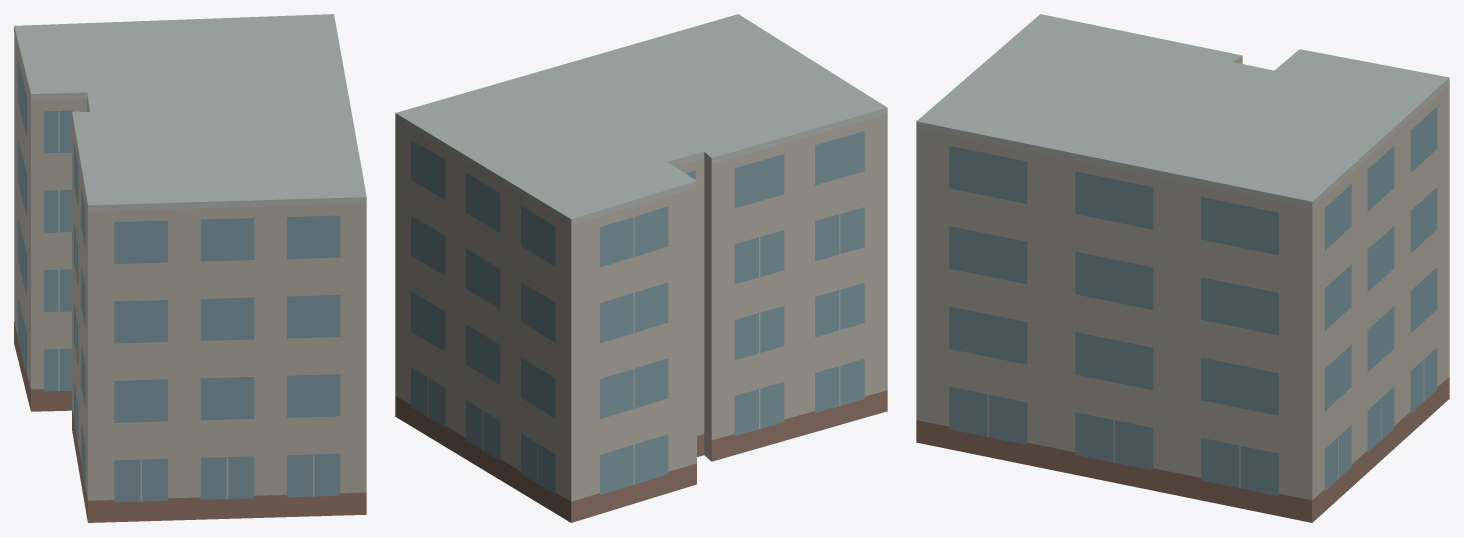
Rendered from survey-upis-32748764.glb.
The picture shows the model from 3 angles, left to right: view 1: azimuth 30°, elevation 25°; view 2: azimuth 150°, elevation 25°; view 3: azimuth 270°, elevation 25°; orthographic projection. The views are drawn at different scales.
Visible parts, largest first — view 1: survey-upis-32748764.tmp; view 2: survey-upis-32748764.tmp; view 3: survey-upis-32748764.tmp.
Part boxes in pixels (bbox=[...]): survey-upis-32748764.tmp: bbox=[14, 14, 366, 522]; survey-upis-32748764.tmp: bbox=[395, 14, 887, 522]; survey-upis-32748764.tmp: bbox=[916, 14, 1449, 522].
Bounding box in the file's own units: 15.37 × 12.25 × 18.44.
